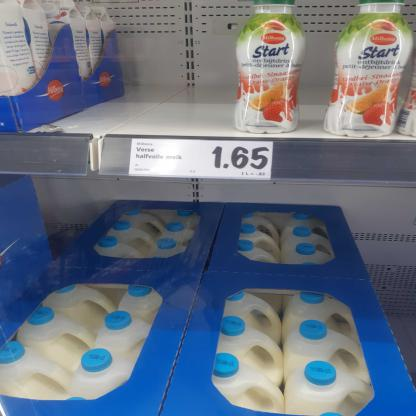prtg: (129, 140, 274, 181)
